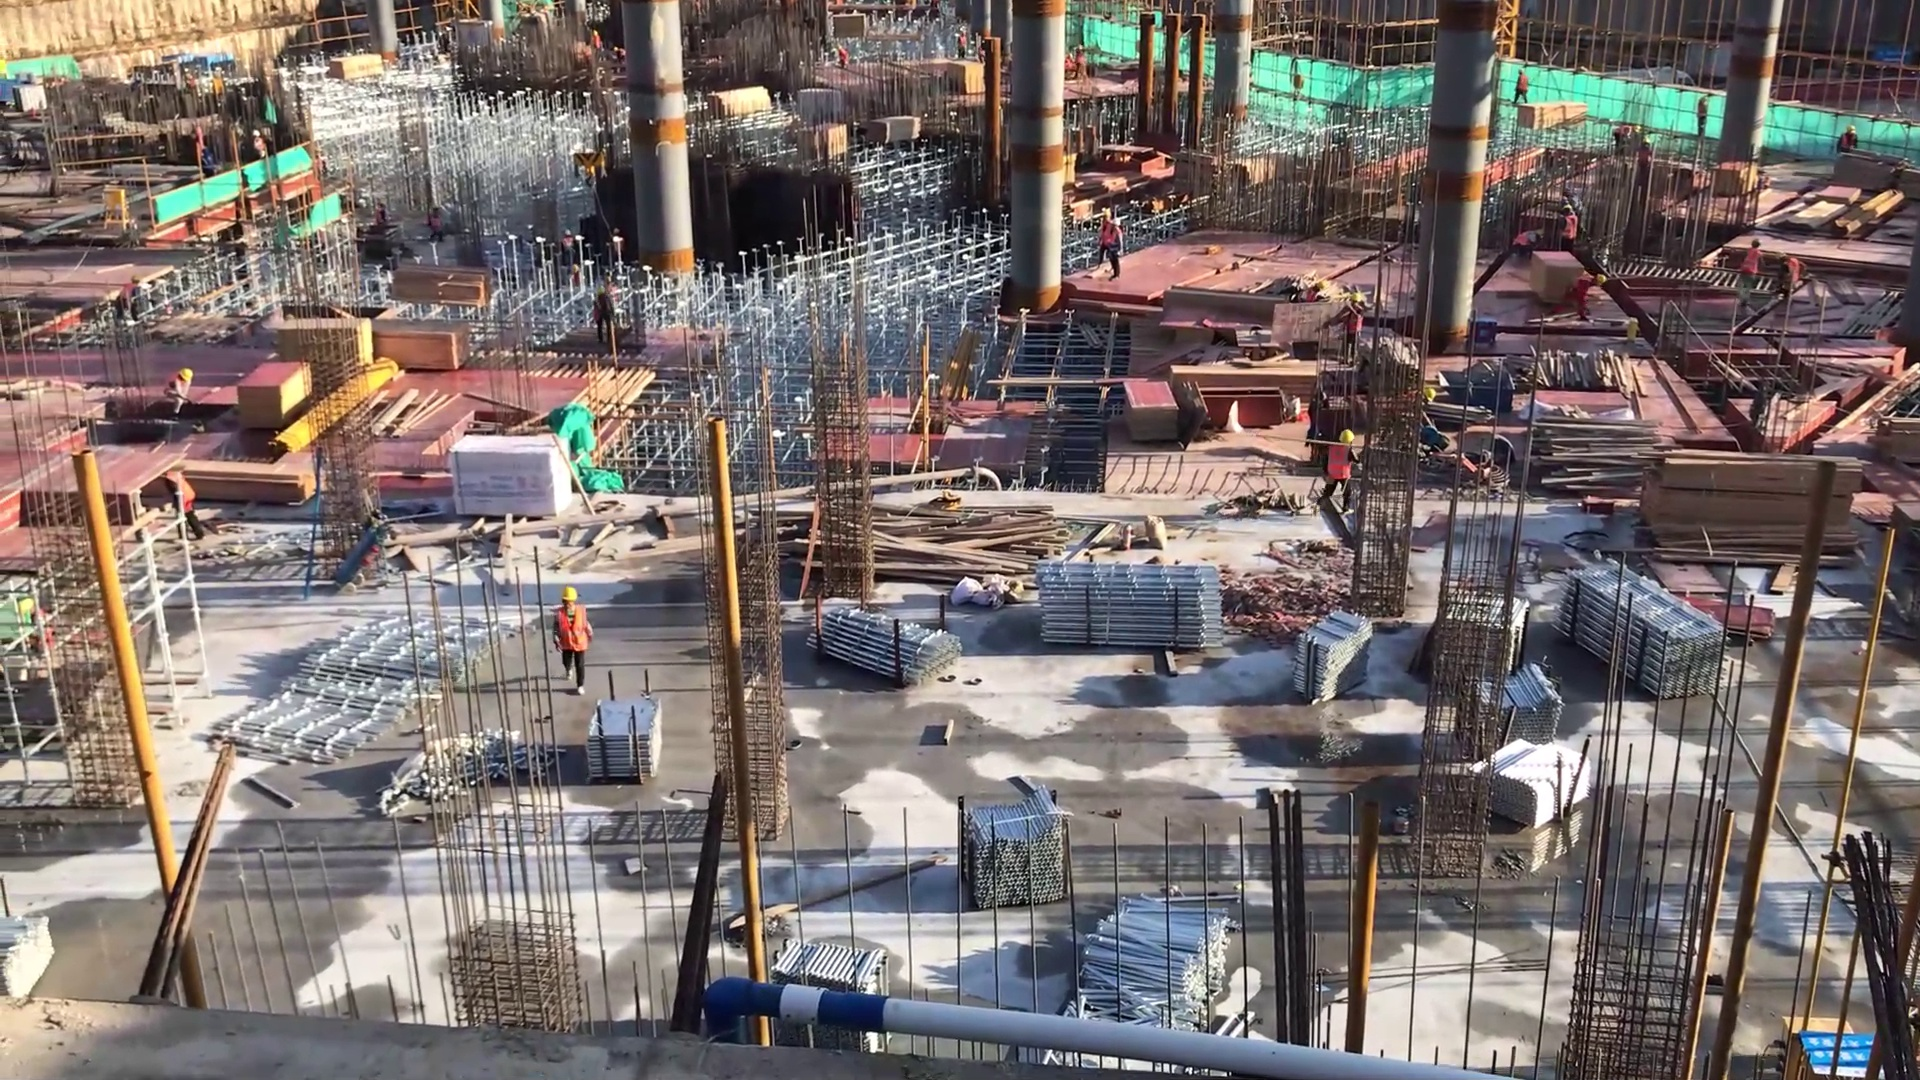board: (1668, 590, 1782, 652), (229, 356, 311, 437), (278, 314, 372, 378), (1122, 374, 1184, 454), (945, 57, 994, 99)
ebox: (102, 177, 129, 232)
helmet: (556, 584, 585, 609), (1338, 426, 1356, 451), (1421, 382, 1438, 409), (175, 365, 195, 383), (1313, 279, 1328, 292), (1594, 271, 1607, 283), (1111, 218, 1122, 229), (128, 274, 140, 284)
hook: (1431, 367, 1520, 414)
person: (550, 581, 598, 698), (161, 464, 203, 541), (1322, 426, 1358, 513), (1567, 272, 1609, 326), (1775, 247, 1809, 313), (1341, 299, 1371, 367), (165, 366, 198, 421), (591, 287, 618, 347), (1691, 87, 1719, 141), (1508, 224, 1547, 263), (117, 273, 144, 328), (1739, 240, 1767, 291), (1558, 204, 1583, 259), (1108, 216, 1126, 280), (1292, 279, 1327, 312), (1836, 120, 1860, 166), (1515, 60, 1534, 117), (1610, 117, 1633, 163), (1098, 204, 1113, 270), (249, 127, 269, 166), (1638, 132, 1653, 181), (429, 204, 447, 244), (1074, 43, 1089, 88), (834, 44, 852, 74), (202, 146, 216, 182), (957, 29, 970, 64)
scaffold: (1080, 889, 1241, 1051), (1033, 549, 1251, 666), (1544, 562, 1729, 696), (940, 788, 1079, 910), (816, 607, 969, 682), (745, 931, 916, 996), (1475, 657, 1568, 759), (1300, 603, 1376, 712)
vest: (554, 604, 600, 661), (166, 472, 198, 511), (1328, 441, 1355, 484), (1743, 248, 1764, 281), (1785, 256, 1802, 295), (1346, 306, 1364, 337), (1108, 228, 1125, 259), (1561, 215, 1580, 242)
wood: (1634, 446, 1862, 559), (874, 505, 1070, 586), (1532, 412, 1667, 498), (169, 458, 323, 500), (1166, 365, 1330, 402), (381, 262, 495, 311), (372, 315, 467, 373), (1515, 100, 1592, 140), (707, 84, 773, 127), (1867, 413, 1920, 462), (858, 115, 928, 147), (324, 54, 387, 83)
